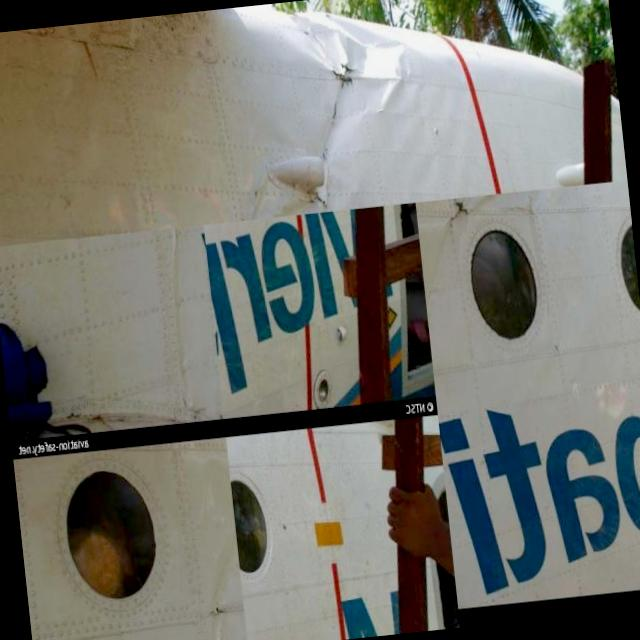crack: (323, 58, 358, 123), (441, 198, 472, 226)
dent: (280, 2, 415, 128)
